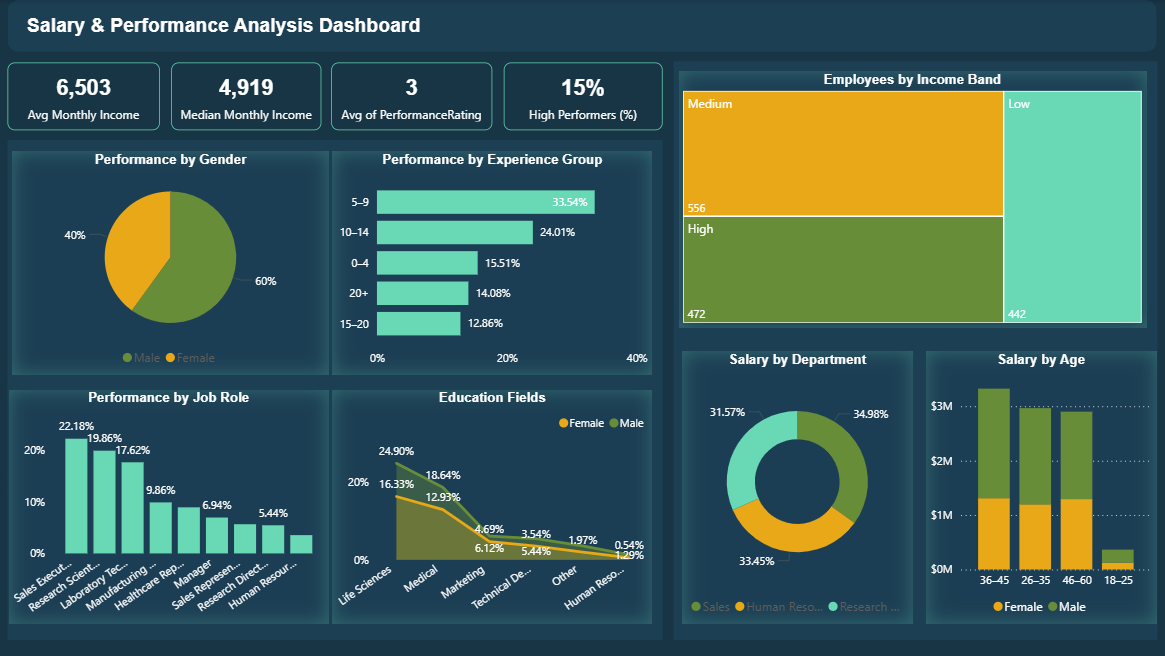

This screenshot's page, from the dashboard's own definition file:
{"tool":"powerbi","page":{"name":"Salary and Performance Dashboard","canvas":[1280,720],"ordinal":3},"visuals":[{"type":"shape","box":[8.1,0,1261.6,57],"z":0},{"type":"textbox","box":[24.4,10.5,816.3,37.2],"z":1000},{"type":"card","fields":{"Values":["Measure_Table.Avg Monthly Income"]},"box":[8.2,68.6,167.4,74.1],"z":2000,"group":"g1"},{"type":"shape","box":[739.6,67.2,531,635.3],"z":2000},{"type":"card","fields":{"Values":["Measure_Table.High Performers (%)"]},"box":[553,68.6,174.3,74.1],"z":3000,"group":"g1"},{"type":"shape","box":[8.2,153.7,719,548.9],"z":3000},{"type":"card","fields":{"Values":["Avg(HR_Employee_Attrition.PerformanceRating)"]},"box":[364.1,68.6,177,74.1],"z":4000,"group":"g1"},{"type":"treemap","title":"Employees by Income Band","fields":{"Group":["HR_Employee_Attrition.IncomeBand"],"Values":["CountNonNull(HR_Employee_Attrition.EmployeeNumber)"]},"box":[745.1,78.2,513.2,281.3],"z":4000},{"type":"card","fields":{"Values":["Measure_Table.Median Monthly Income"]},"box":[187.5,68.6,164.7,74.1],"z":5000,"group":"g1"},{"type":"donutChart","title":"Salary by Department","fields":{"Category":["HR_Employee_Attrition.Department"],"Y":["Avg(HR_Employee_Attrition.MonthlyIncome)"]},"box":[749.2,385.6,252.5,299.1],"z":5000},{"type":"pieChart","title":"Performance by Gender","fields":{"Category":["HR_Employee_Attrition.Gender"],"Y":["CountNonNull(HR_Employee_Attrition.PerformanceRating)"]},"box":[13.7,166,347.2,245.6],"z":6000},{"type":"barChart","title":"Performance by Experience Group","fields":{"Category":["HR_Employee_Attrition.ExperienceGroup"],"Y":["Sum(HR_Employee_Attrition.PerformanceRating)"]},"box":[365,166,351.3,245.6],"z":7000},{"type":"columnChart","title":"Performance by Job Role","fields":{"Y":["Divide(CountNonNull(HR_Employee_Attrition.PerformanceRating), ScopedEval(CountNonNull(HR_Employee_Attrition.PerformanceR"],"Category":["HR_Employee_Attrition.JobRole"]},"box":[9.6,428.1,351.3,256.6],"z":8000},{"type":"areaChart","title":"Education Fields","fields":{"Category":["HR_Employee_Attrition.EducationField"],"Y":["Divide(CountNonNull(HR_Employee_Attrition.PerformanceRating), ScopedEval(CountNonNull(HR_Employee_Attrition.PerformanceR"],"Series":["HR_Employee_Attrition.Gender"]},"box":[365,428.1,351.3,256.6],"z":9000},{"type":"group","id":"g1","title":"Group 1","box":[8.2,68.6,719,74.1],"z":10000},{"type":"columnChart","title":"Salary by Age","fields":{"Category":["HR_Employee_Attrition.AgeBand"],"Y":["Sum(HR_Employee_Attrition.MonthlyIncome)"],"Series":["HR_Employee_Attrition.Gender"]},"box":[1016.8,385.6,252.5,299.1],"z":11000}]}

Visuals, with their boxes in screenshot pixels (x1, y1, x2, y2), scaled from the page's 1280x720 canvas onto the 1165x656 screenshot:
shape: l=7, t=0, r=1156, b=52
textbox: l=22, t=10, r=765, b=43
card - Measure_Table.Avg Monthly Income: l=7, t=63, r=160, b=130
shape: l=673, t=61, r=1156, b=640
card - Measure_Table.High Performers (%): l=503, t=63, r=662, b=130
shape: l=7, t=140, r=662, b=640
card - Avg(HR_Employee_Attrition.PerformanceRating): l=331, t=63, r=492, b=130
"Employees by Income Band" treemap: l=678, t=71, r=1145, b=328
card - Measure_Table.Median Monthly Income: l=171, t=63, r=321, b=130
"Salary by Department" donutChart: l=682, t=351, r=912, b=624
"Performance by Gender" pieChart: l=12, t=151, r=328, b=375
"Performance by Experience Group" barChart: l=332, t=151, r=652, b=375
"Performance by Job Role" columnChart: l=9, t=390, r=328, b=624
"Education Fields" areaChart: l=332, t=390, r=652, b=624
"Group 1" group: l=7, t=63, r=662, b=130
"Salary by Age" columnChart: l=925, t=351, r=1155, b=624
